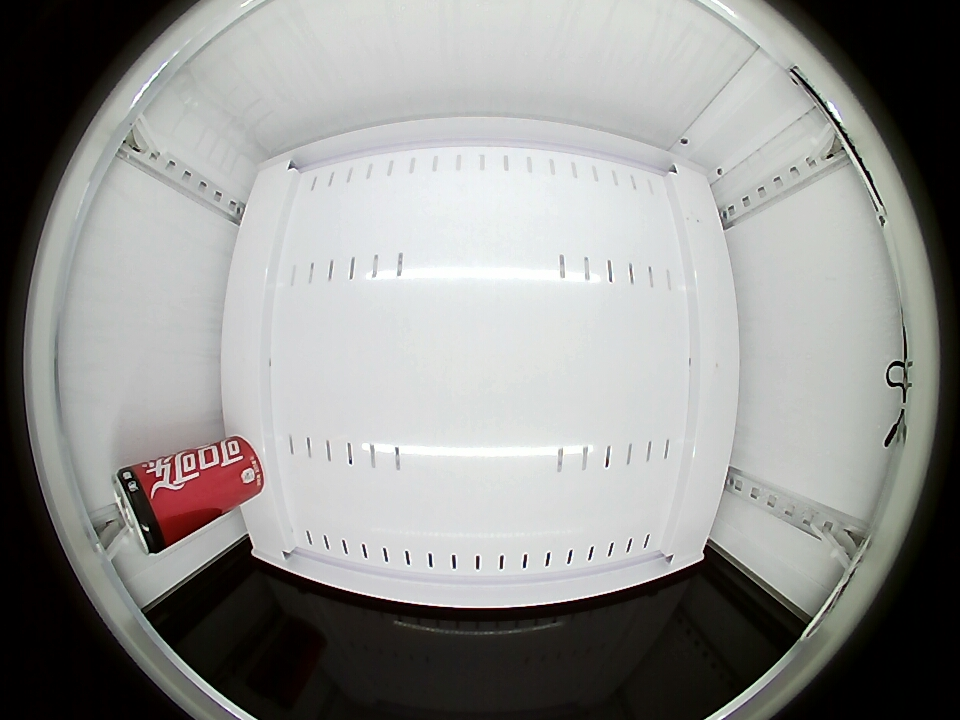lingdukele: (112, 459, 180, 555)
